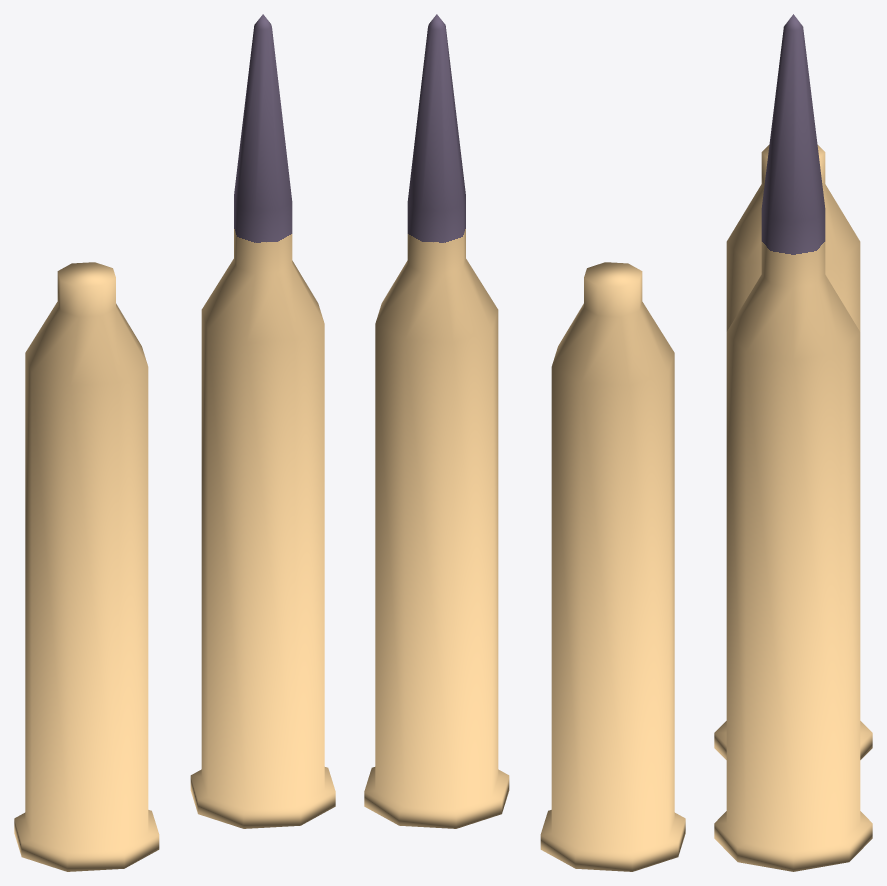
File: Shell.glb
3 views of the same model, side by side, from view 1: azimuth 30°, elevation 25°; view 2: azimuth 150°, elevation 25°; view 3: azimuth 270°, elevation 25° (orthographic). The views are drawn at different scales.
Visible parts, largest first — view 1: Cylinder, Cylinder.001; view 2: Cylinder, Cylinder.001; view 3: Cylinder, Cylinder.001.
Boxes of the visible parts, x1,y1,x2,y2 form: Cylinder: (190, 14, 335, 828); Cylinder.001: (14, 262, 159, 871); Cylinder: (364, 14, 509, 828); Cylinder.001: (540, 262, 685, 871); Cylinder: (714, 14, 872, 871); Cylinder.001: (714, 144, 872, 759).
Bounding box in the file's own units: 0.6955 × 1.7 × 0.2955.
Materials: 1 (1 with a texture image).
